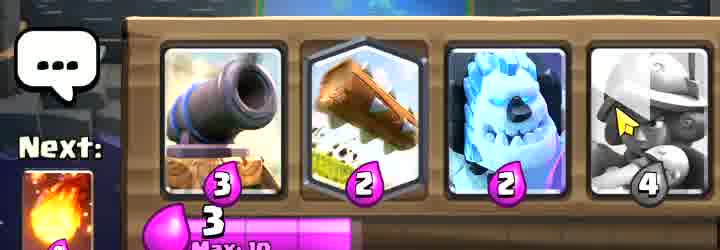cannon: (171, 48, 285, 193)
fireball: (24, 172, 92, 250)
ice-golem: (447, 52, 561, 198)
log: (311, 43, 423, 192)
